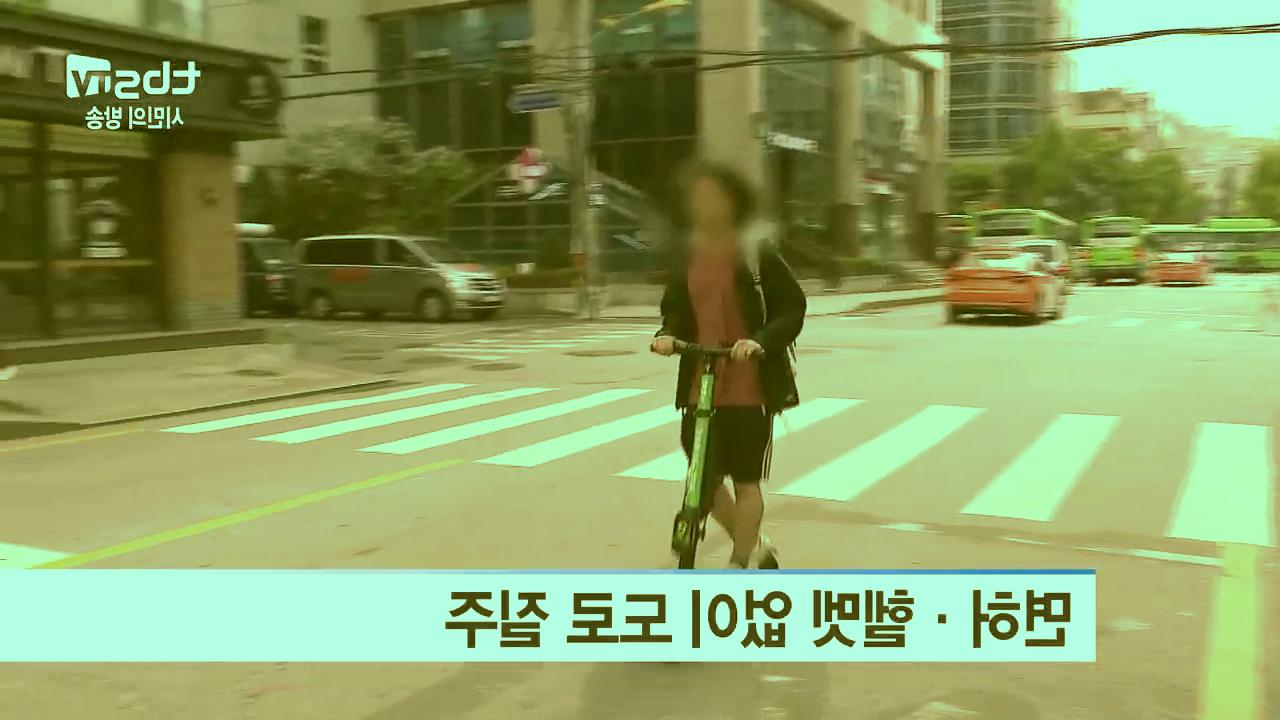nonhelmet: (645, 158, 806, 568)
